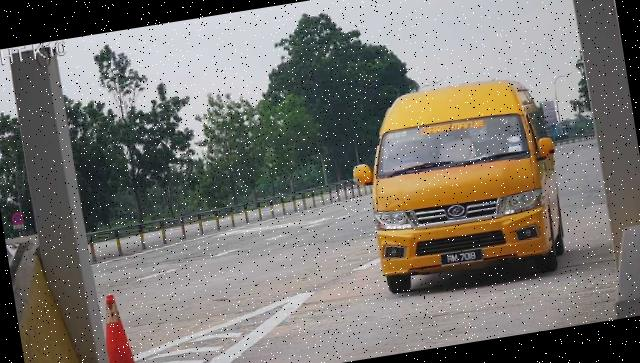License_Plate: (439, 246, 486, 270)
van: (357, 73, 573, 299)
